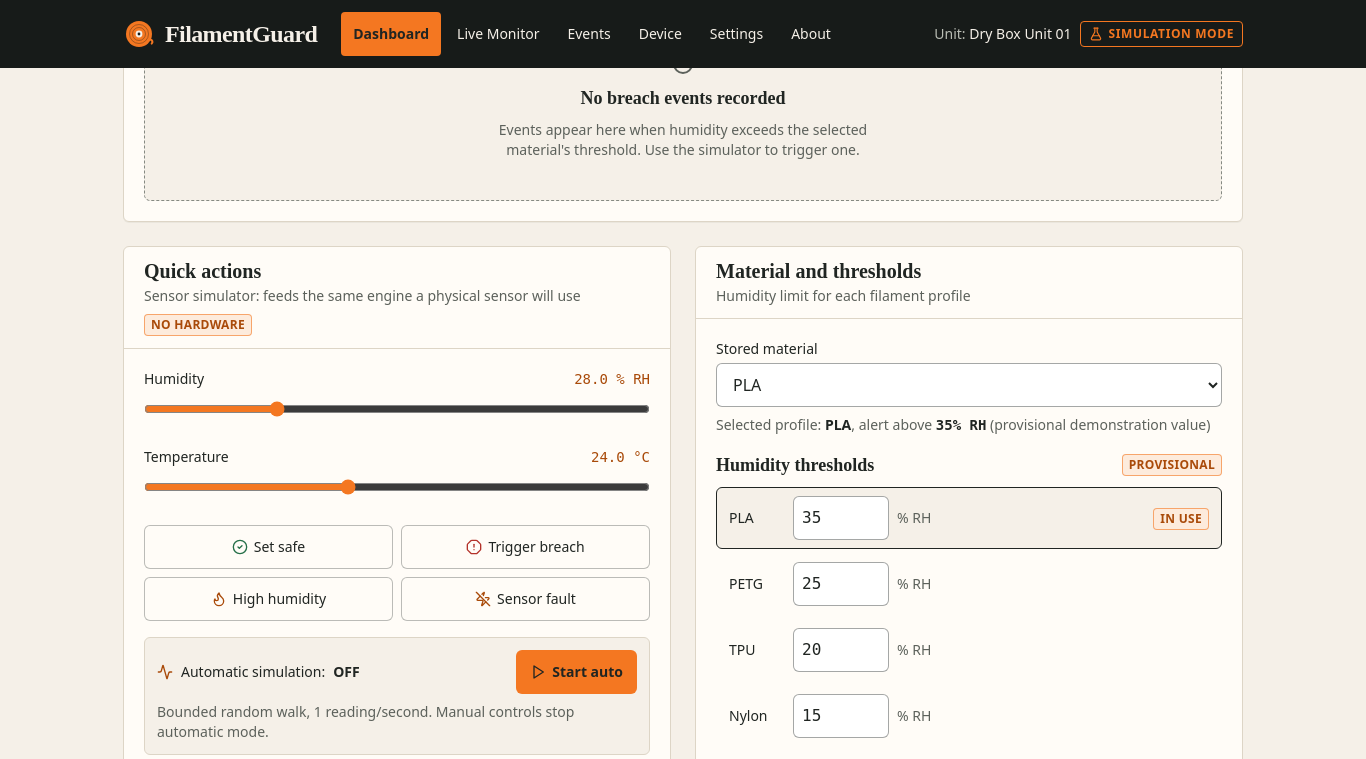
Test: simulation controls › 15. reset demo asks for confirmation, and erases events, history, settings and storage
(page scrolled)
Select "TPU" in the dropdown labelled "Stored material". click: point(969, 385)
box: [716,363,1222,407]
(page scrolled)
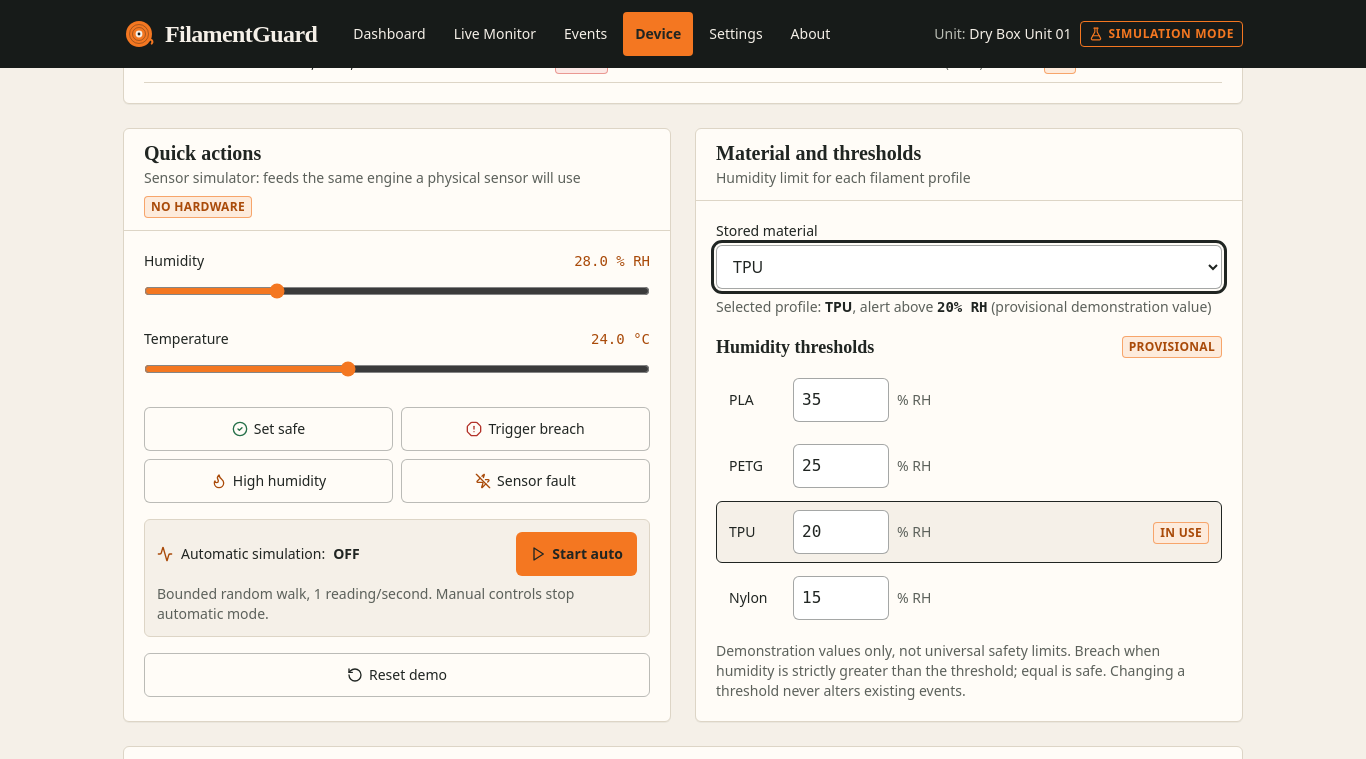
Click the button "Trigger breach". click: point(526, 429)
box: [401,407,650,451]
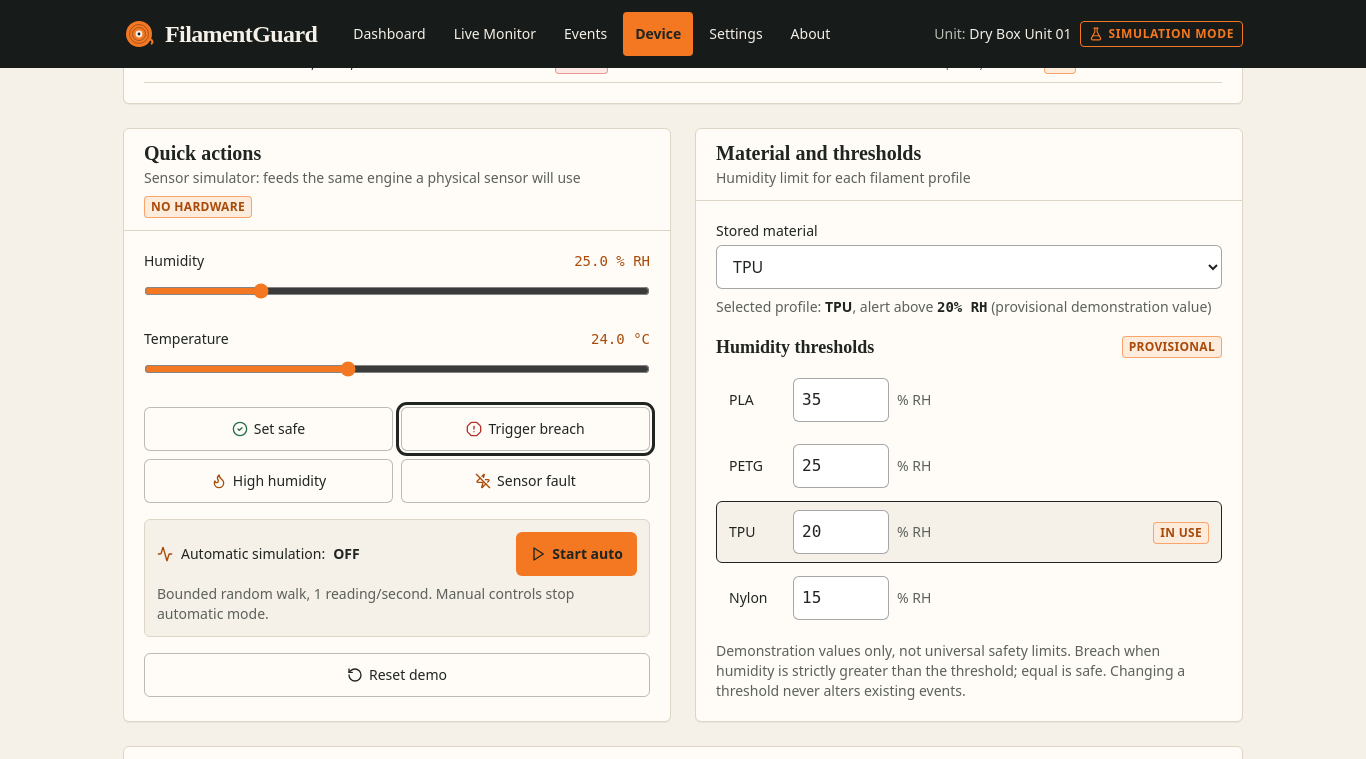
Expected: the number of rows with test id "event-row" is 1, [144,43,1222,82]
Click the button "Reset demo". click: point(397, 675)
box: [144,653,650,697]
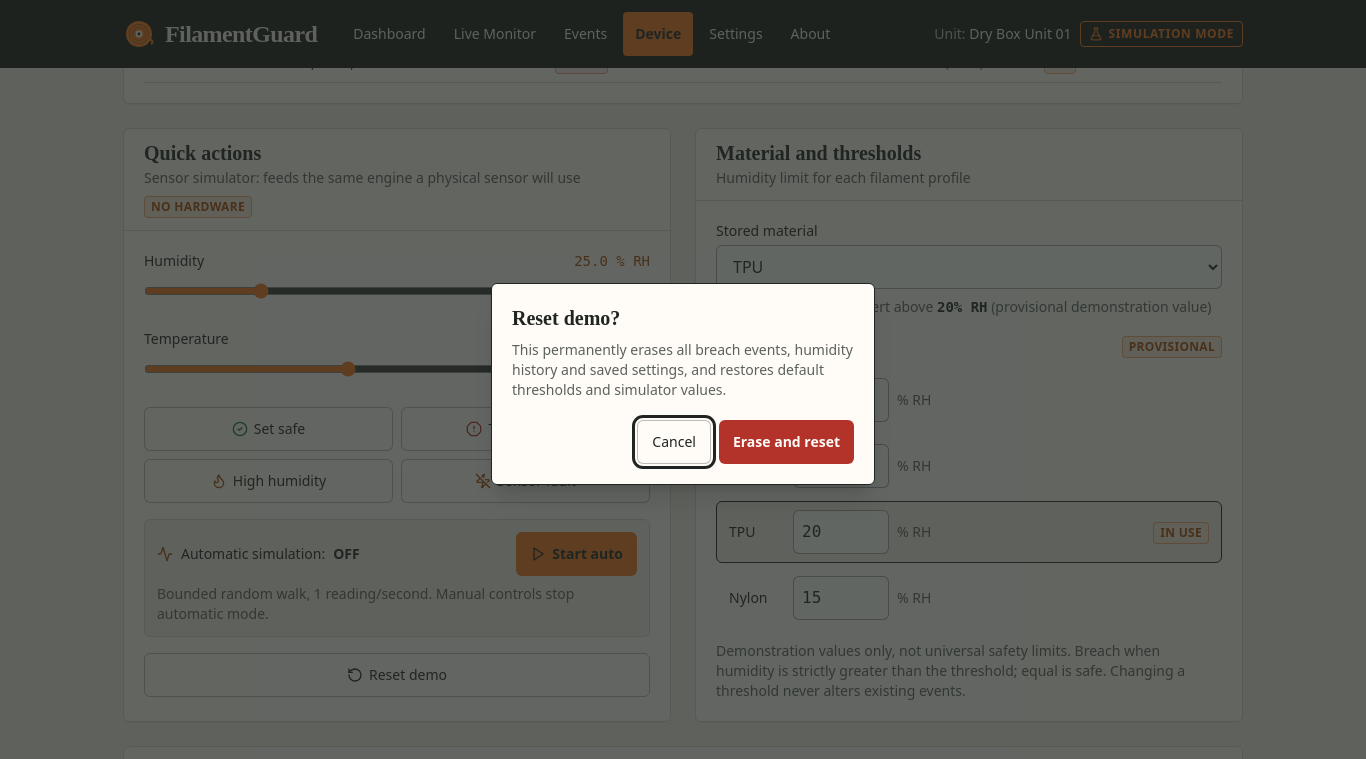
Click the button "Cancel". click: point(674, 442)
box: [637,420,711,464]
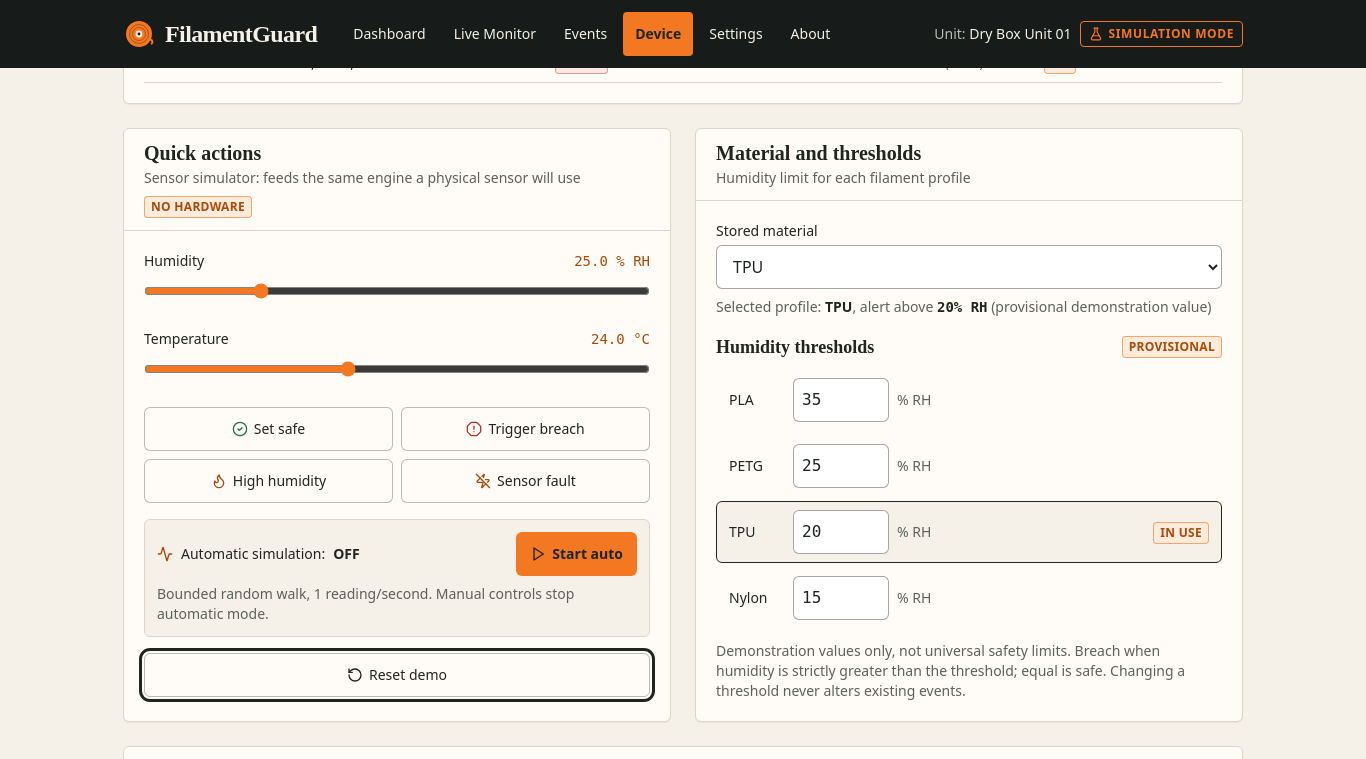
Expected: the number of rows with test id "event-row" is 1, [144,43,1222,82]
Click the button "Reset demo". click: point(397, 675)
box: [144,653,650,697]
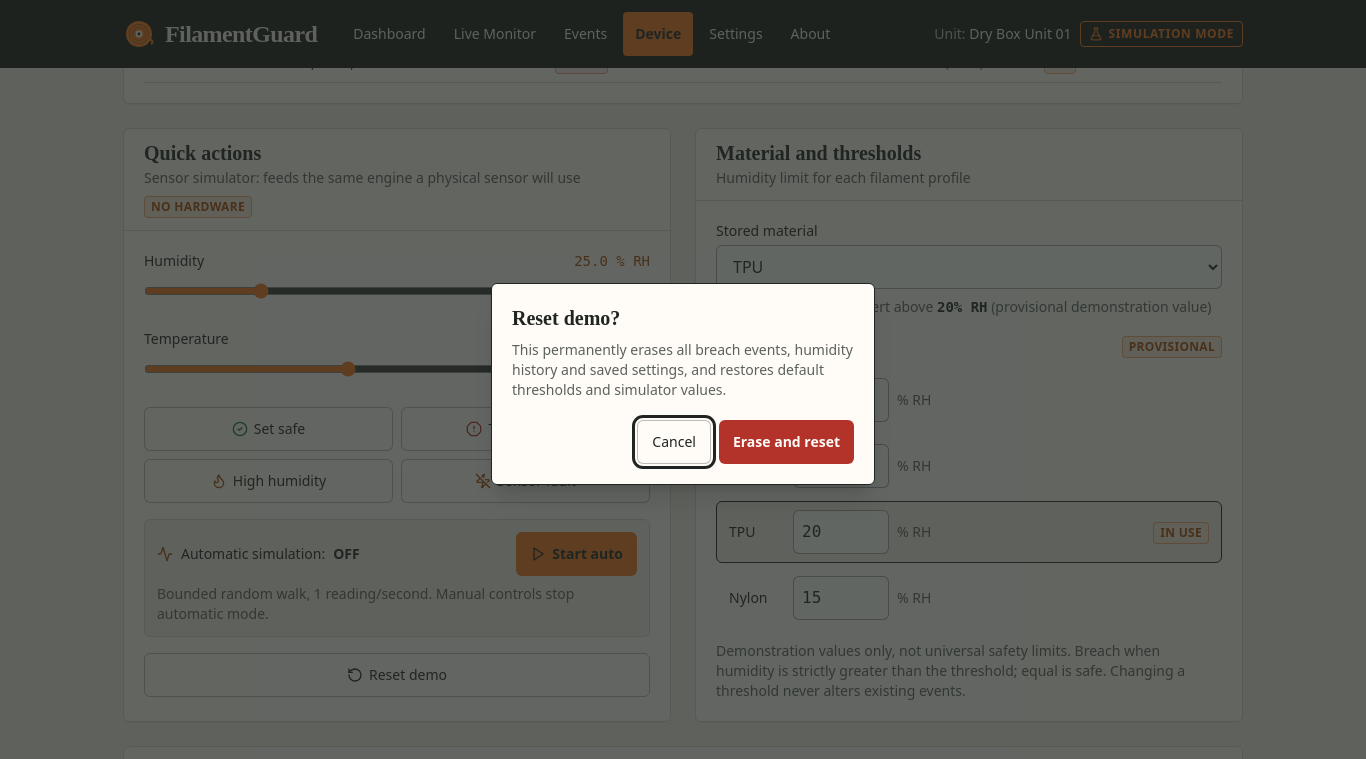
Click the button "Erase and reset". click: point(786, 442)
box: [719,420,854,464]
(page scrolled)
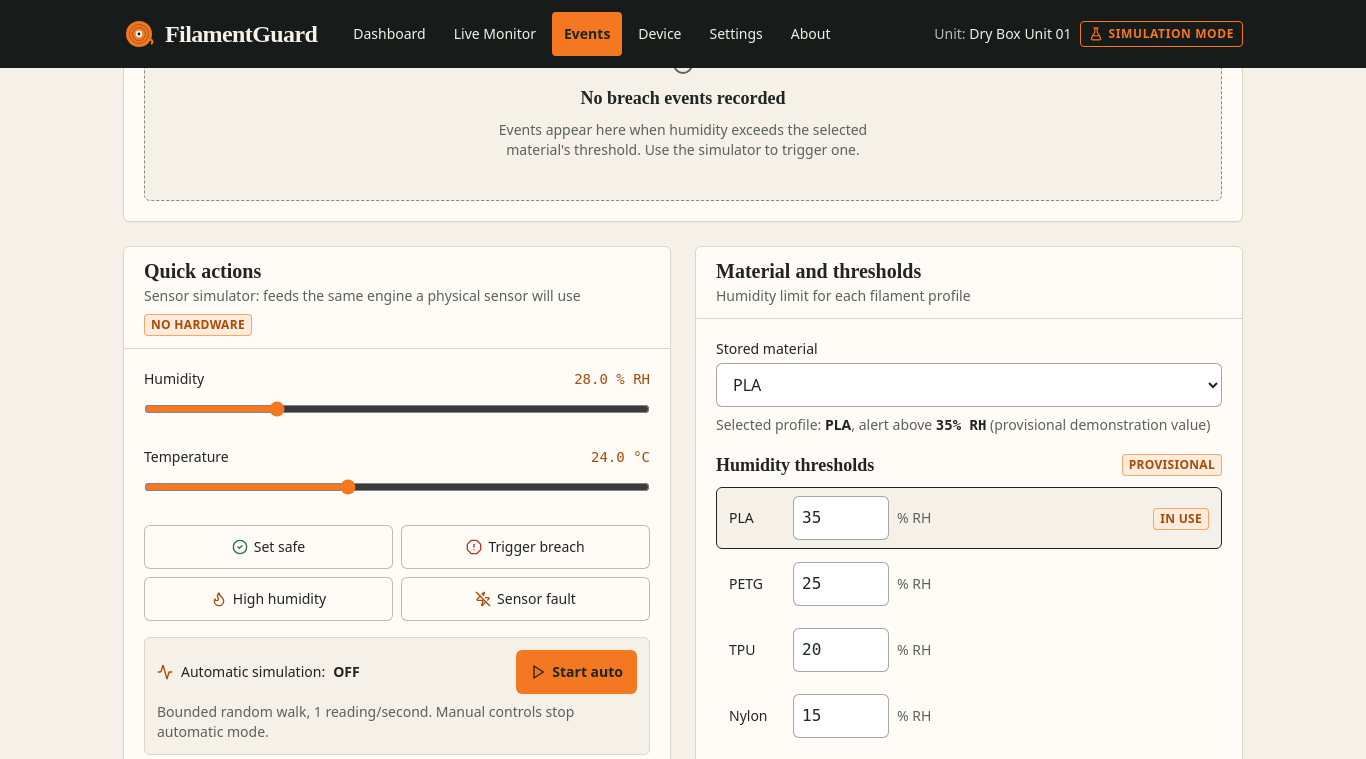
Expected: the dialog is gone
Expected: the element with test id "events-empty" is shown, [144,11,1222,201]
